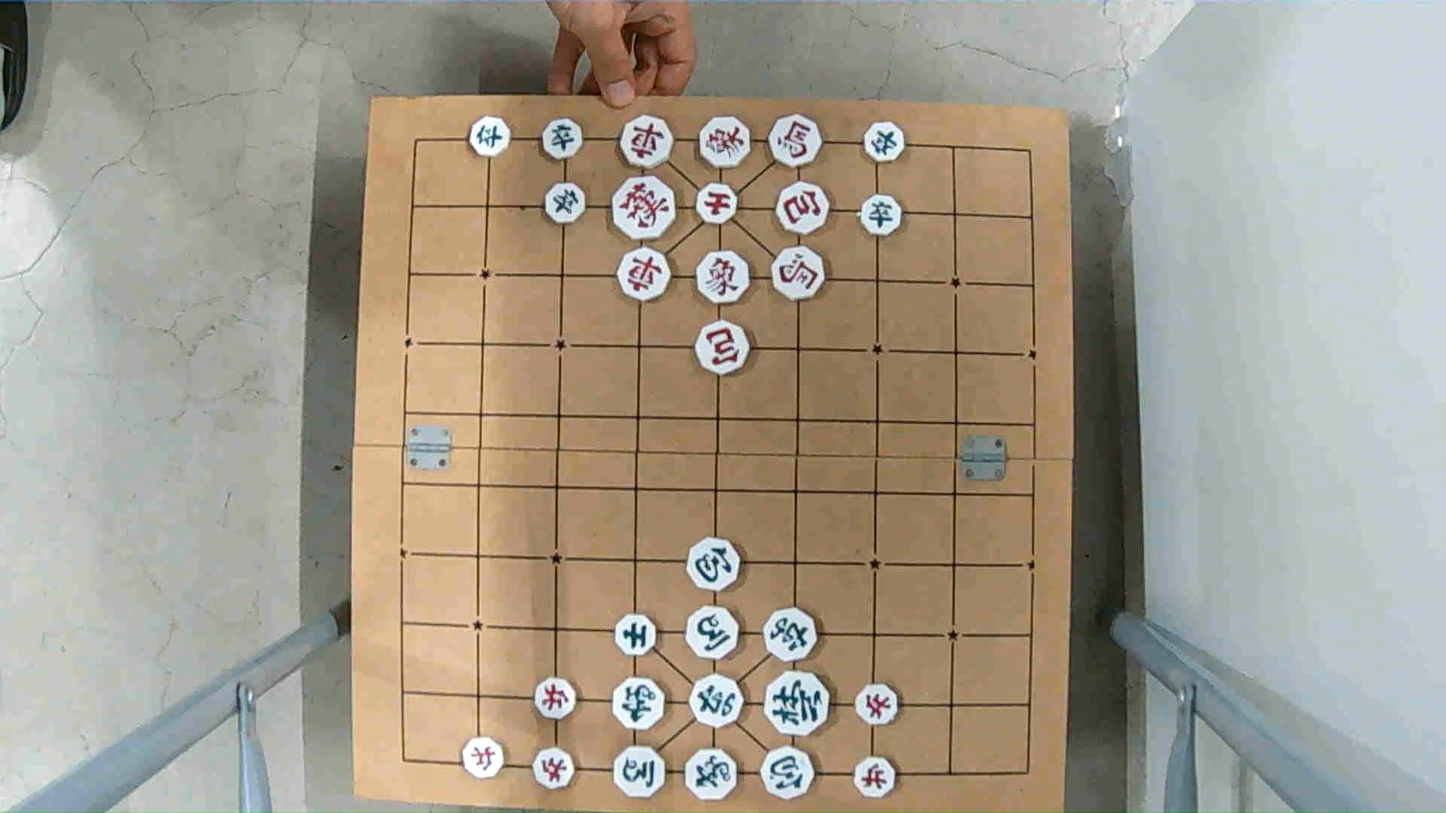cha_green: (688, 674, 743, 725), (764, 610, 819, 660)
cha_red: (621, 119, 676, 167), (619, 251, 673, 298)
jol_green: (543, 120, 586, 160), (862, 123, 905, 162), (859, 196, 903, 234), (469, 117, 514, 154), (545, 185, 587, 224)
jol_red: (530, 748, 580, 790), (532, 677, 577, 720), (851, 758, 897, 796), (853, 684, 899, 722), (463, 736, 507, 775)
ma_green: (614, 746, 670, 796), (687, 608, 743, 658)
ma_red: (773, 248, 829, 300), (770, 117, 825, 166)
po_green: (761, 748, 816, 798), (686, 537, 742, 586)
po_red: (694, 325, 752, 375), (776, 185, 829, 233)
sa_green: (615, 617, 656, 657)
sa_red: (694, 184, 739, 222)
sang_green: (611, 678, 663, 729), (686, 751, 739, 801)
sang_red: (695, 253, 753, 303), (700, 118, 755, 168)
wang_green: (765, 672, 829, 735)
wang_red: (610, 180, 678, 239)
